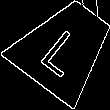L_NE: (36, 18, 94, 77)
